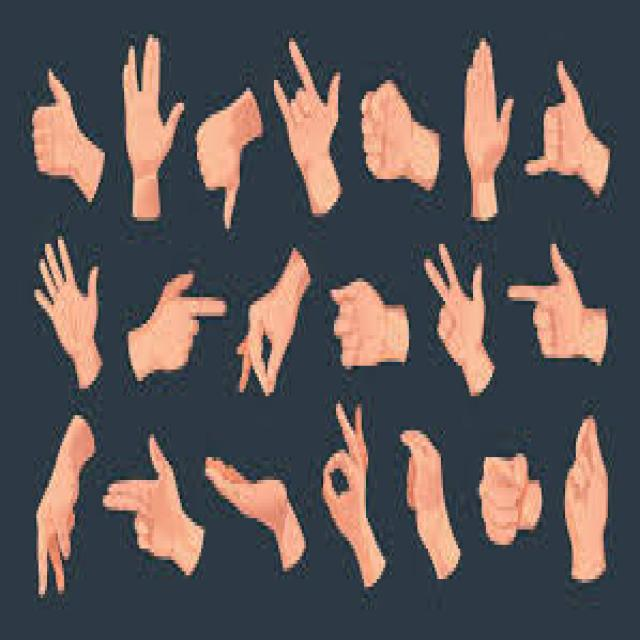hand: (259, 16, 358, 237)
